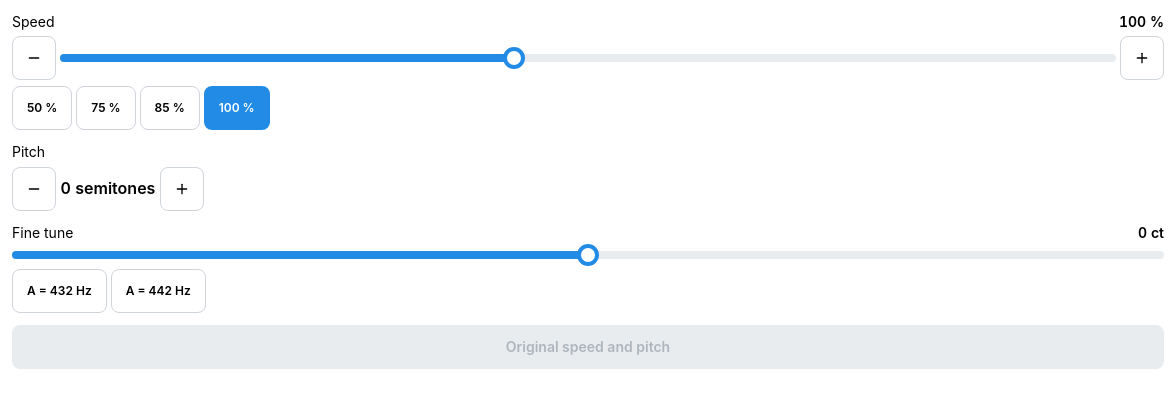
Test: Practice (SPEC §30.6) › hints at extreme speeds
The image size is (1176, 415).
Step 1. Click the button with test id "practice-preset-50" → (42, 108), box [12, 86, 72, 130]
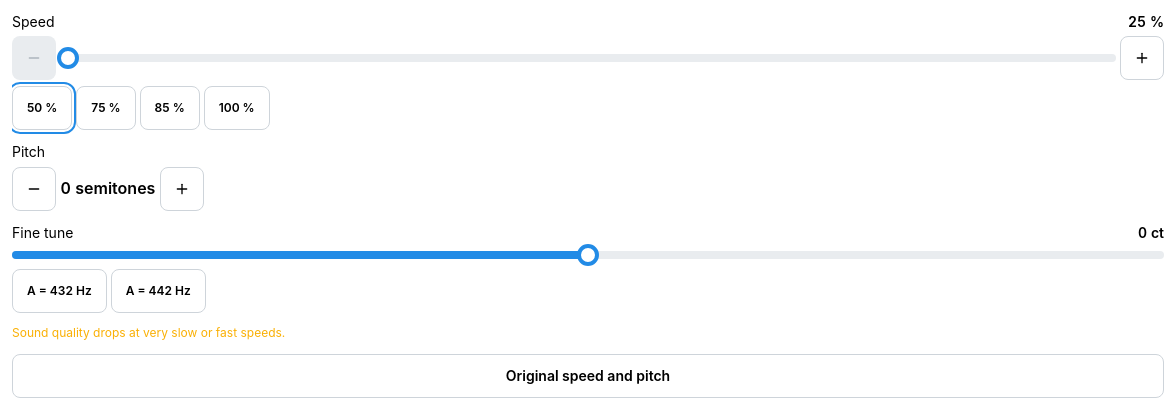
Now the text with test id "practice-hint" shows "quality drops", box [12, 325, 285, 340]
